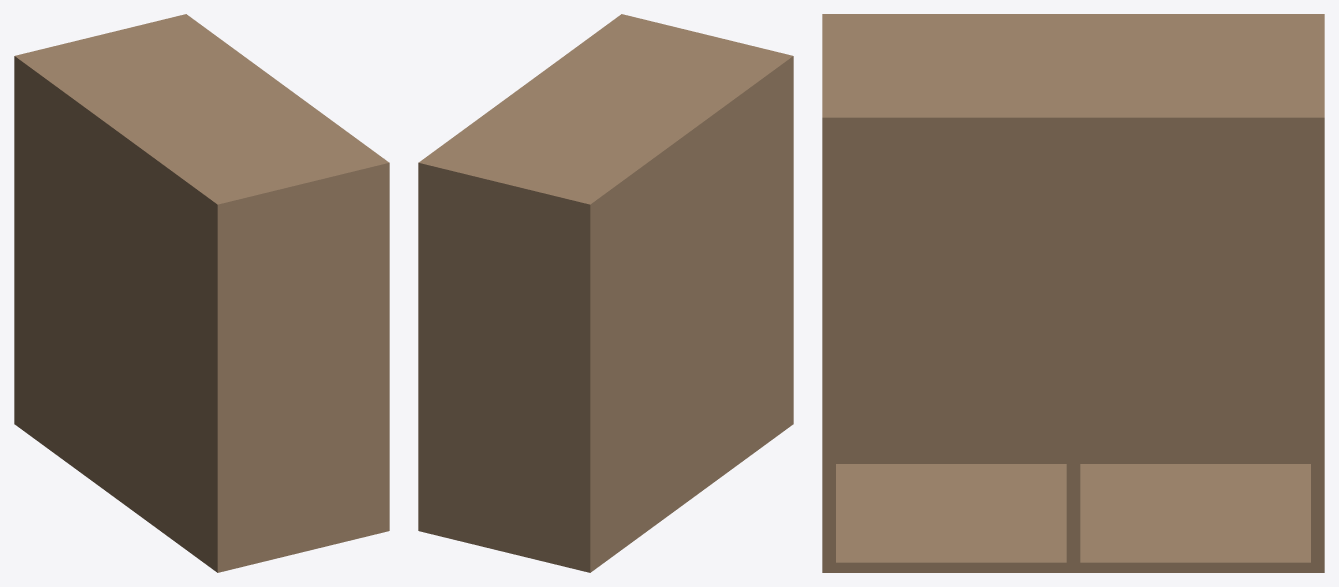
File: shelf.obj
The picture shows the model from 3 angles, left to right: view 1: azimuth 30°, elevation 25°; view 2: azimuth 150°, elevation 25°; view 3: azimuth 270°, elevation 25°; orthographic projection. The views are drawn at different scales.
Size of the model in its own units: 0.392 by 0.803 by 0.803.
